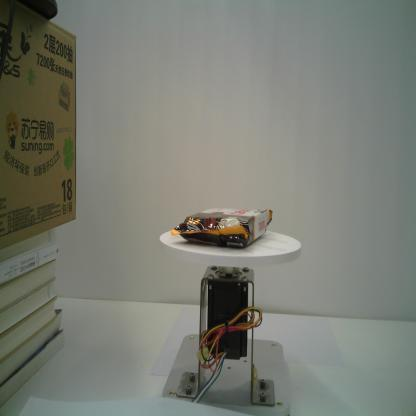Dessert: (168, 206, 274, 251)
